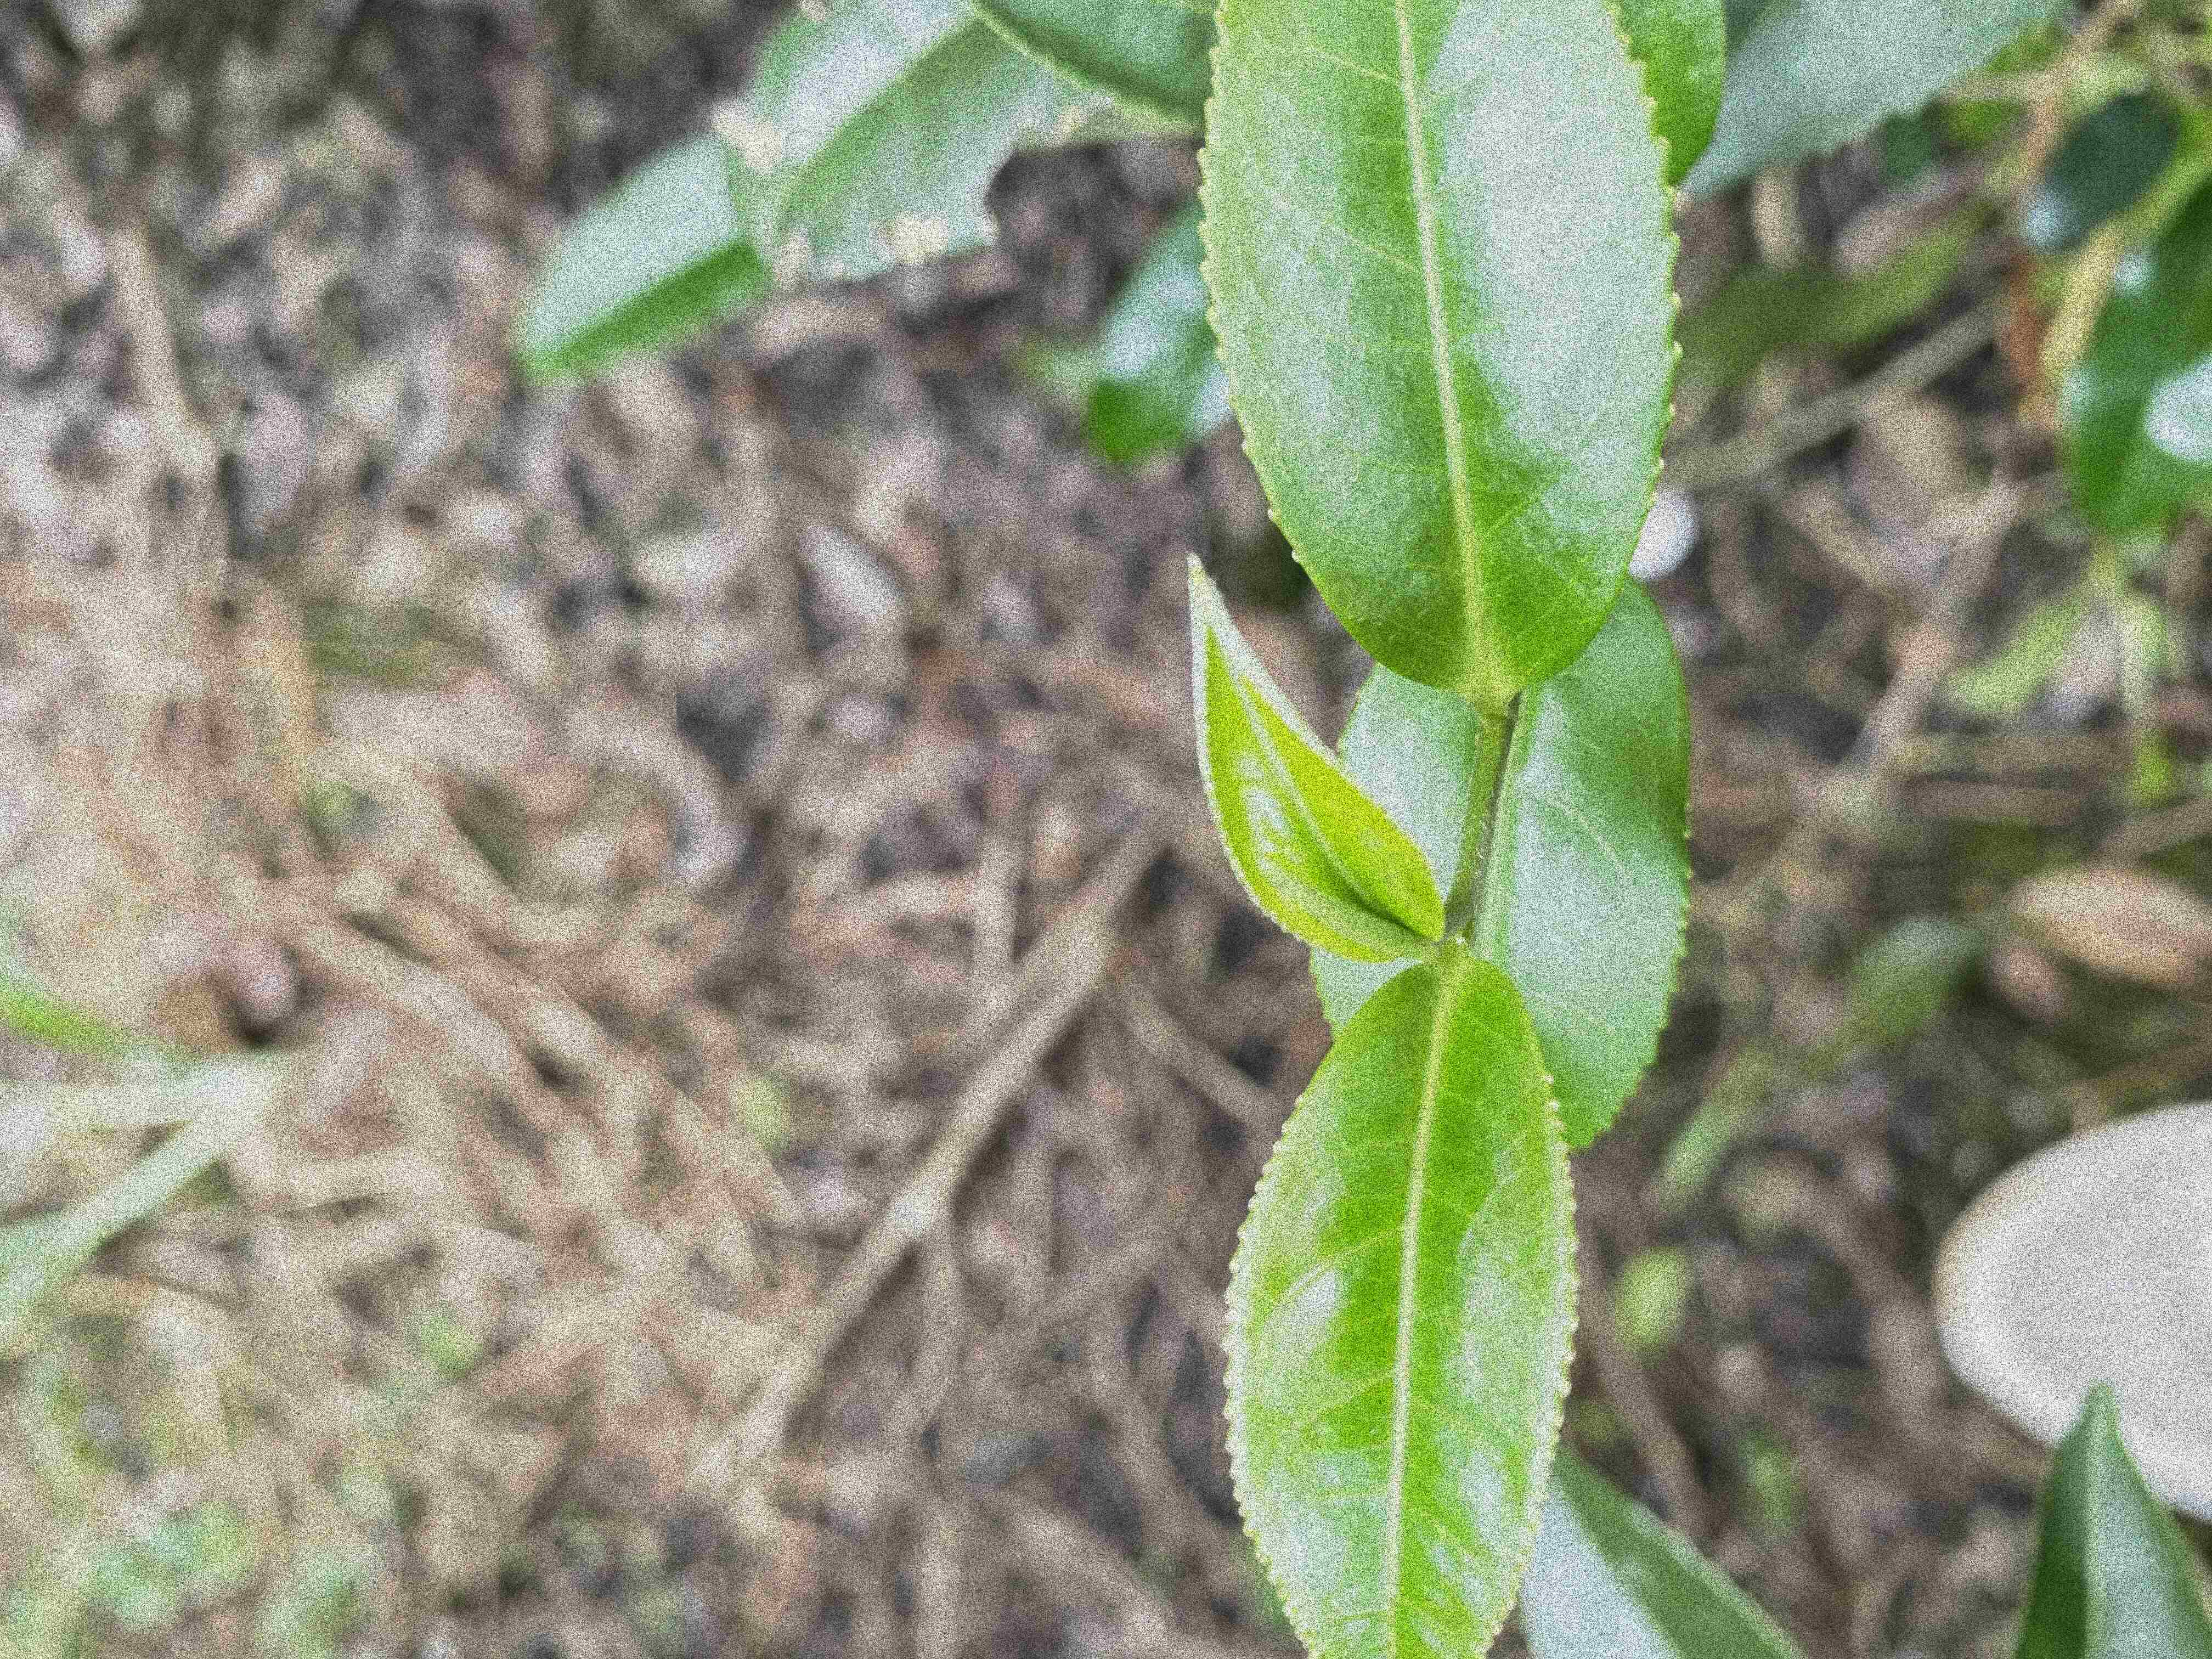healthy: (1191, 2, 1689, 690), (1216, 953, 1583, 1654), (1183, 552, 1444, 965)
